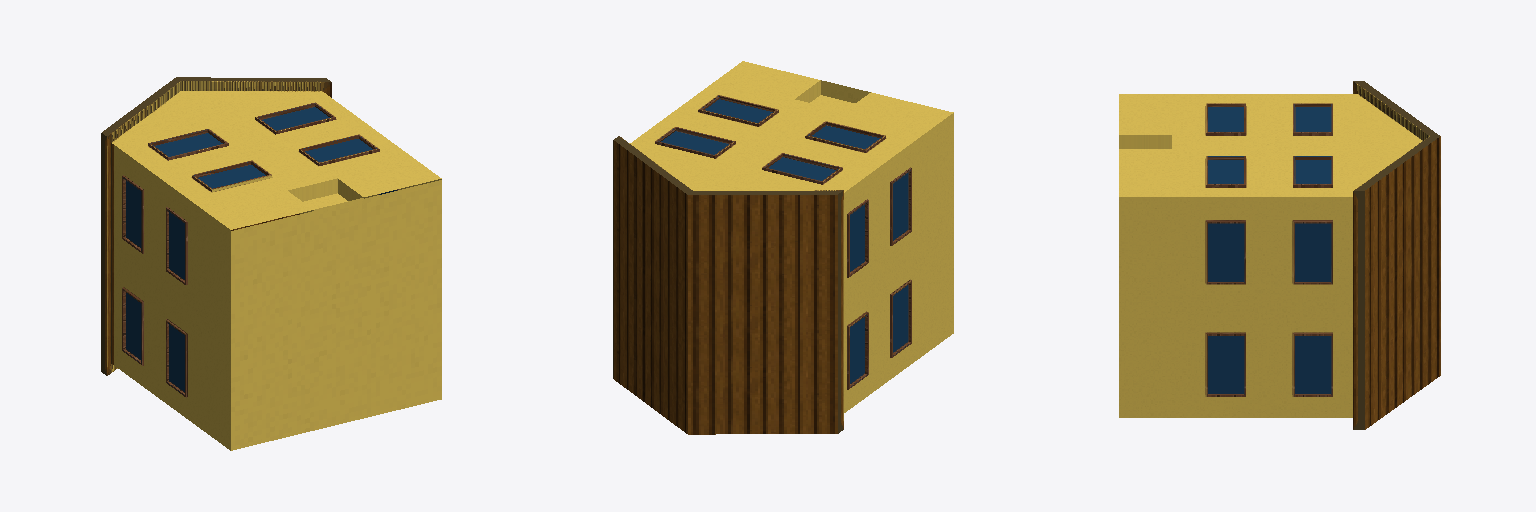
3 views of the same model, side by side, from view 1: azimuth 30°, elevation 25°; view 2: azimuth 150°, elevation 25°; view 3: azimuth 270°, elevation 25° (orthographic).
Visible parts, largest first — view 1: house-06_Cube.018; view 2: house-06_Cube.018; view 3: house-06_Cube.018.
Part boxes in pixels (bbox=[...]): house-06_Cube.018: bbox=[101, 77, 441, 450]; house-06_Cube.018: bbox=[613, 61, 953, 434]; house-06_Cube.018: bbox=[1119, 81, 1440, 429].
Size of the model in its own units: 4.49 by 4.57 by 5.55.
Materials: 1 (1 with a texture image).